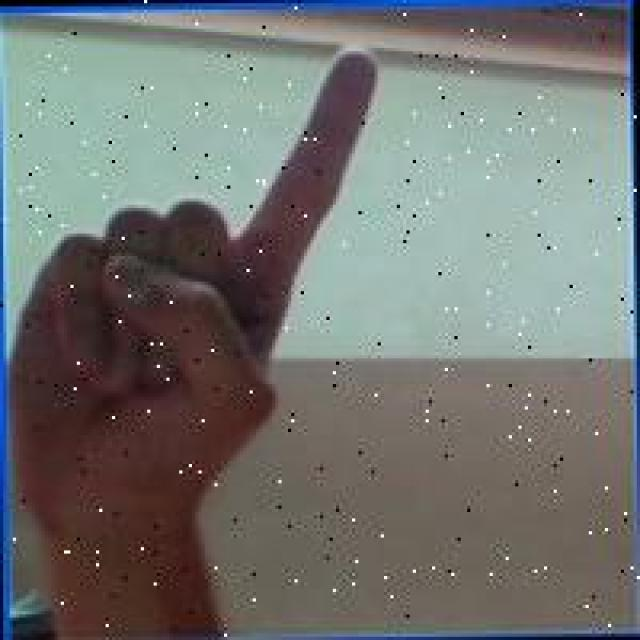Z: (5, 44, 398, 638)
